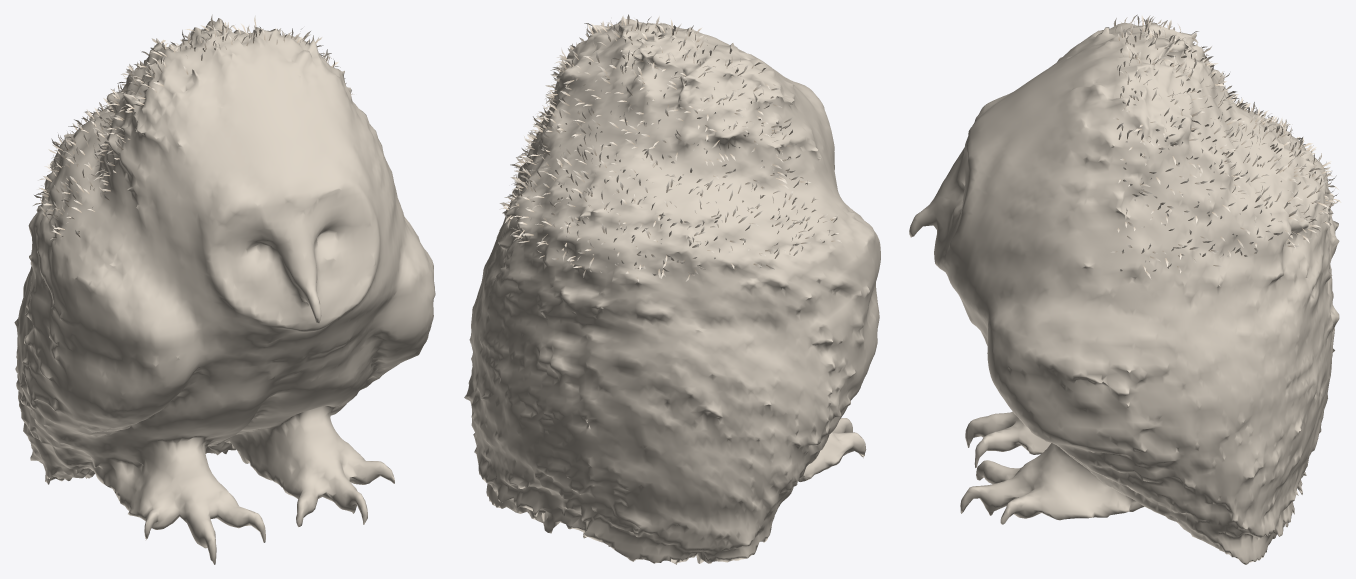
The model's file is groom-integrated-diagnostic.glb.
3 views of the same model, side by side, from view 1: azimuth 30°, elevation 25°; view 2: azimuth 150°, elevation 25°; view 3: azimuth 270°, elevation 25° (orthographic). The views are drawn at different scales.
Visible parts, largest first — view 1: run414_groom_integration_NO_RELEASE; view 2: run414_groom_integration_NO_RELEASE; view 3: run414_groom_integration_NO_RELEASE.
Boxes of the visible parts, box(x1,y1,x2,y2) form: run414_groom_integration_NO_RELEASE: box(14, 14, 435, 564); run414_groom_integration_NO_RELEASE: box(464, 14, 880, 564); run414_groom_integration_NO_RELEASE: box(909, 14, 1341, 564).
Size of the model in its own units: 1.5 by 1.89 by 1.54.
